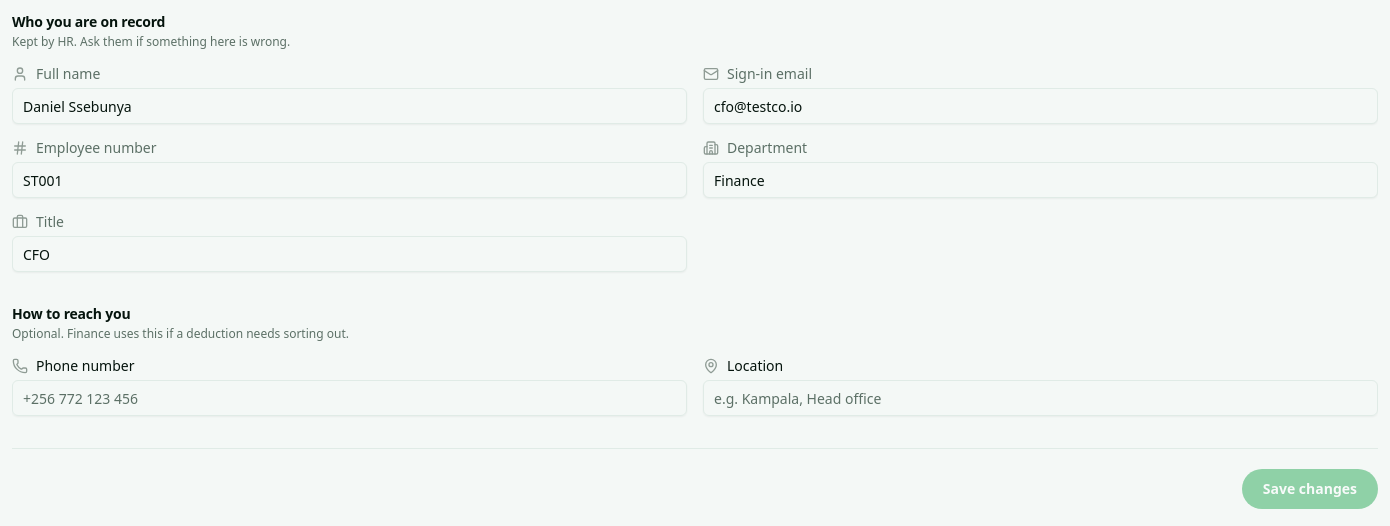
Test case: MyDetailsForm › a refusal from the server is shown and nothing claims to be saved
The width and height of the screenshot is (1390, 526).
Type "abc" into the field labelled "Phone number" at (350, 398), box [12,380,687,416]
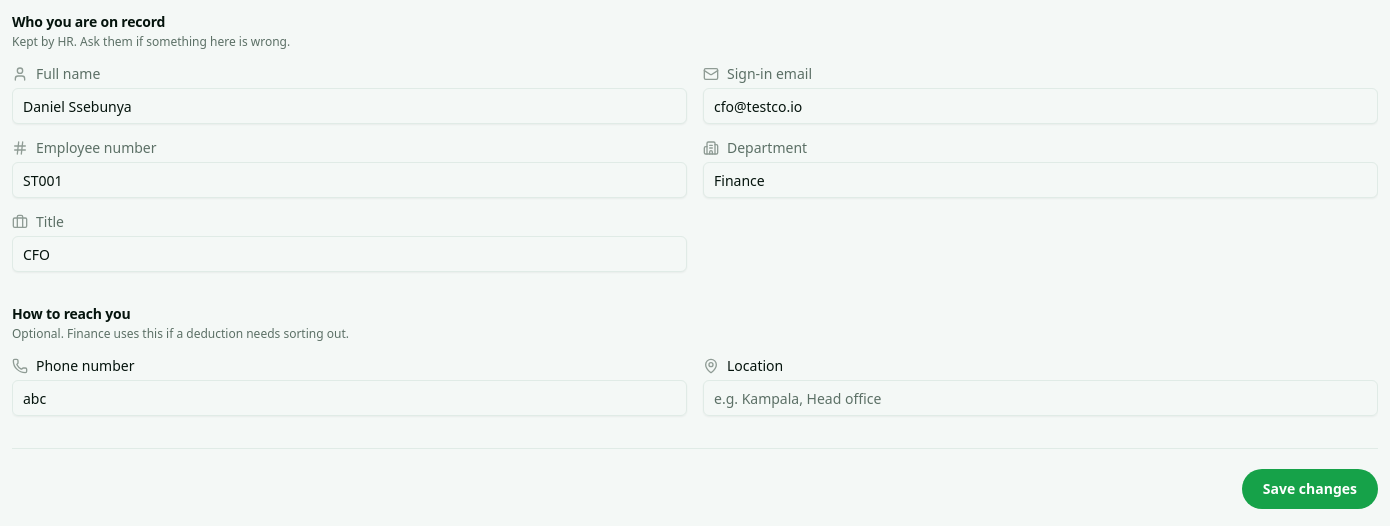
Click the button "Save changes" at (1310, 489), box [1242,469,1378,509]
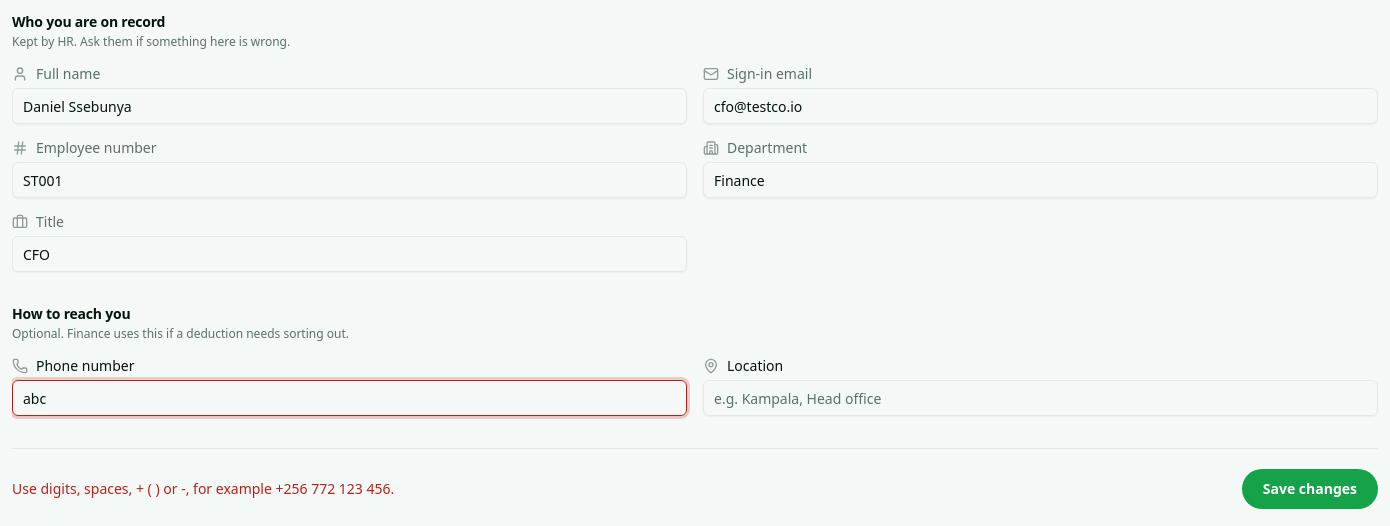
Check: the text "Use digits, spaces, + ( ) or -, for example +256 772 123 456." is shown, box [12,479,394,499]
